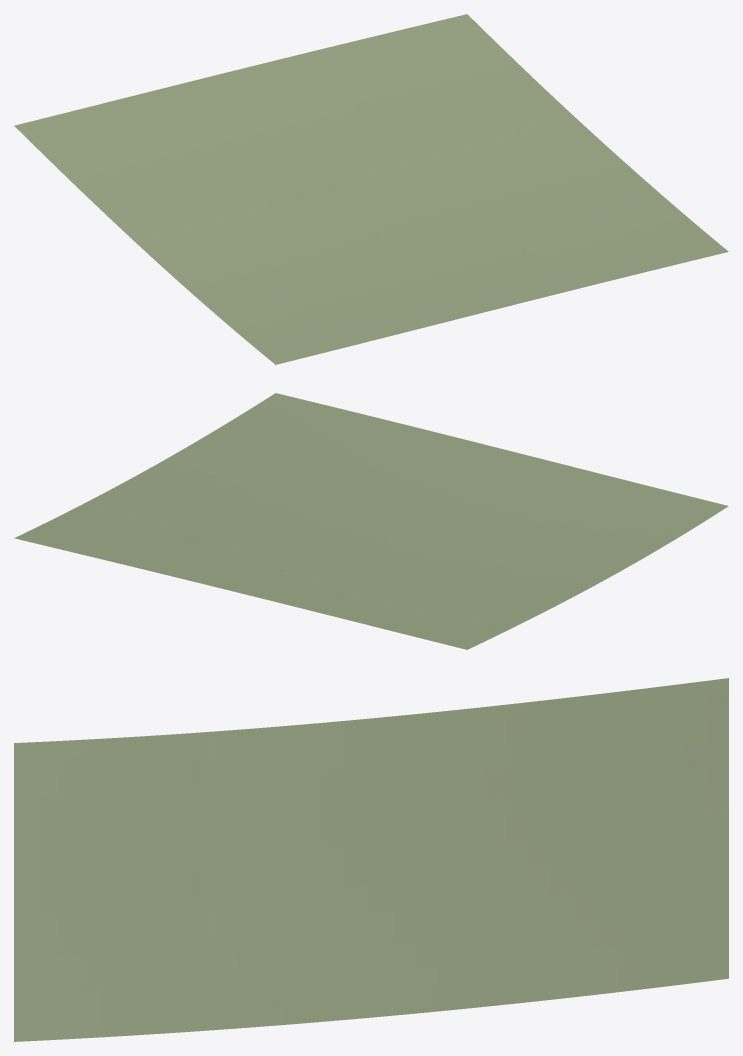
Rendered from desert-26-12.glb.
3 views of the same model, one above another, from view 1: azimuth 30°, elevation 25°; view 2: azimuth 150°, elevation 25°; view 3: azimuth 270°, elevation 25° (orthographic). The views are drawn at different scales.
Parts seen in each view (by area): view 1: desert-26-12; view 2: desert-26-12; view 3: desert-26-12.
Part boxes in pixels (x1,y1,x2,y2): desert-26-12: (14,14,728,364); desert-26-12: (14,393,728,649); desert-26-12: (14,678,728,1041).
Size of the model in its own units: 512 by 53.05 by 512.
